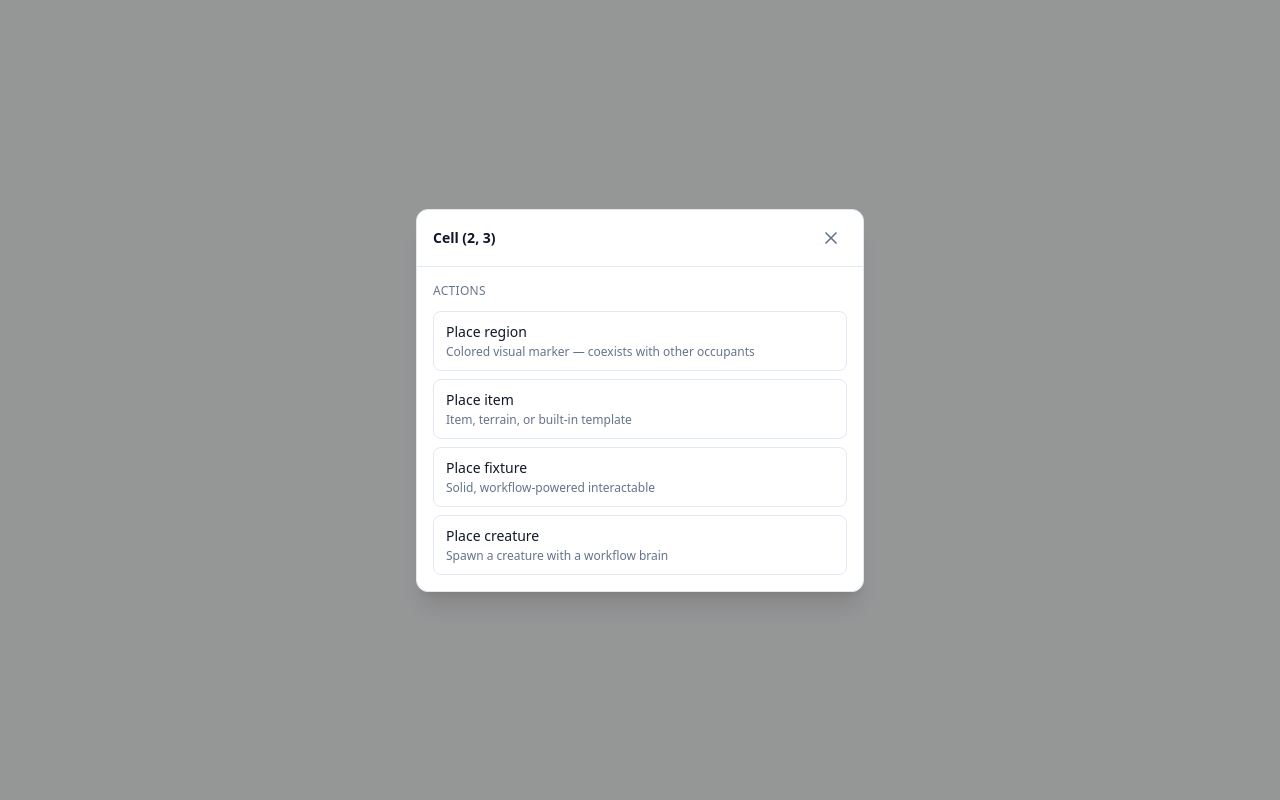
it: SandboxCellActionModal › place item source menu › lists only user item definitions and excludes seeded built-ins
What coordinates should you click on to do the following:
click the button "Place item Item, terrain, or built-in template"
I would click on:
 (480, 399)
Its box is [433,378,847,438].
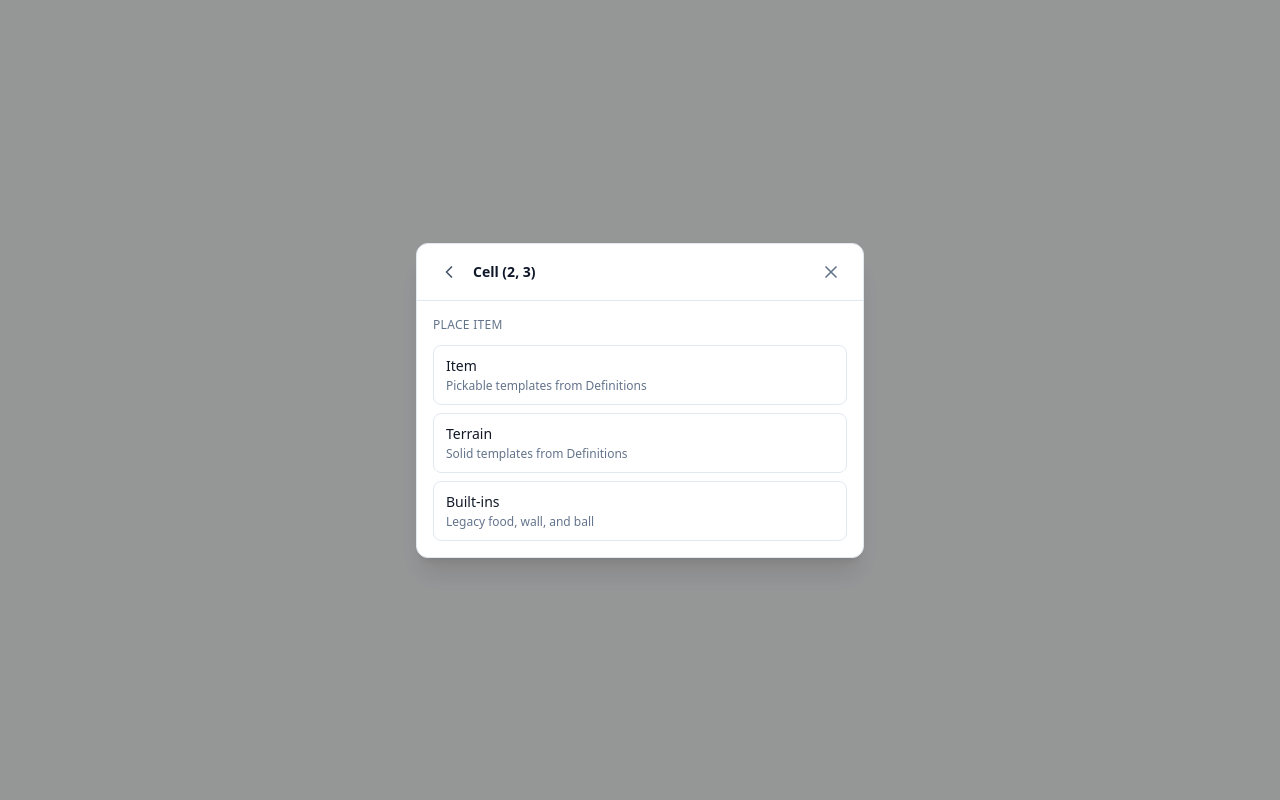
What coordinates should you click on to do the following:
click the button "Item Pickable templates from Definitions"
I would click on:
 (640, 374)
Its box is [433,344,847,404].
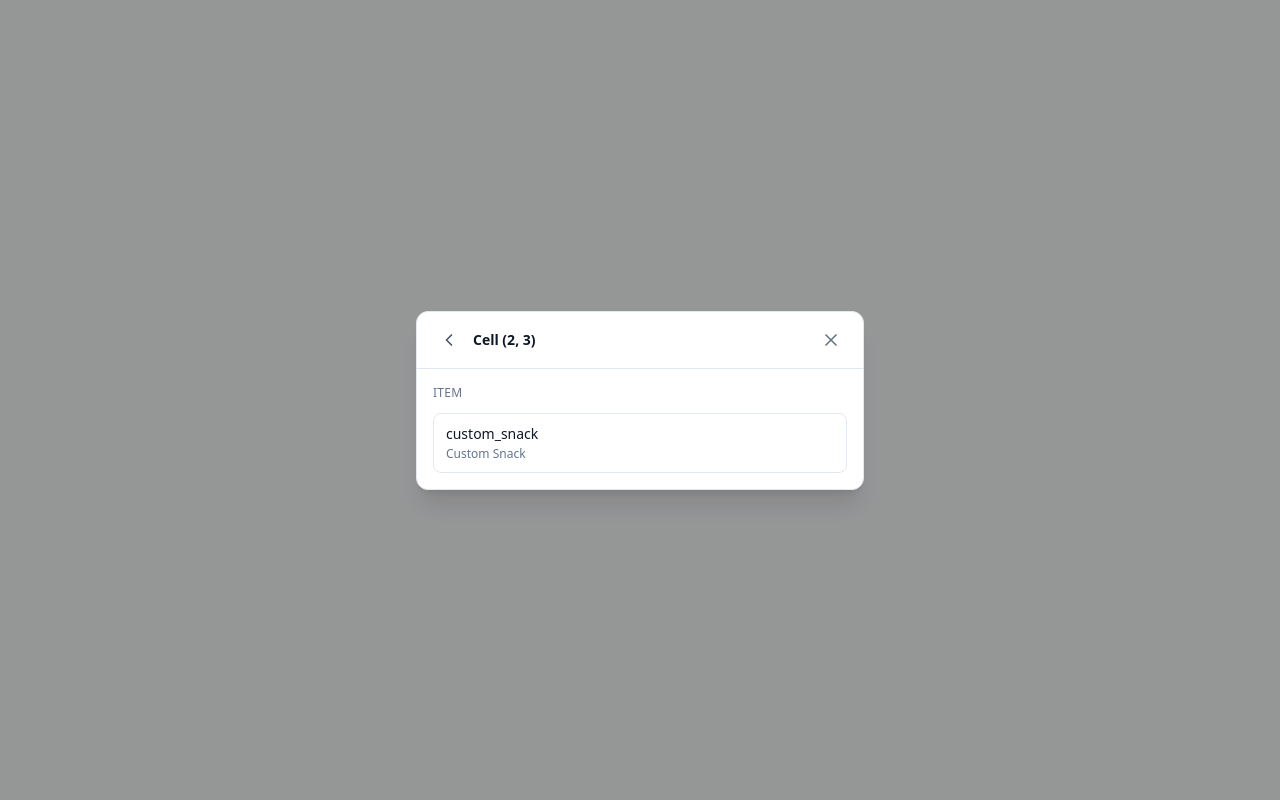
Result: the button "custom_snack Custom Snack" is shown at [433,412,847,472]
